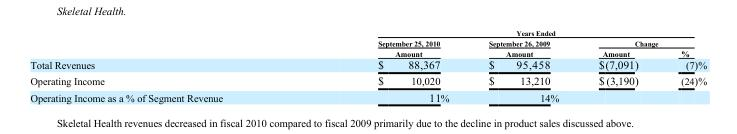table: (29, 28, 706, 103)
table column: (29, 28, 299, 103), (299, 28, 468, 103), (468, 28, 578, 103), (578, 28, 659, 103), (659, 28, 706, 103)
table column header: (29, 28, 706, 58)
table row: (29, 72, 706, 88), (29, 88, 706, 103), (29, 58, 706, 72), (29, 47, 706, 58), (29, 37, 706, 47), (29, 28, 706, 37)
table spanning cell: (299, 28, 706, 37), (299, 37, 468, 58), (468, 37, 578, 58), (578, 37, 706, 47)
